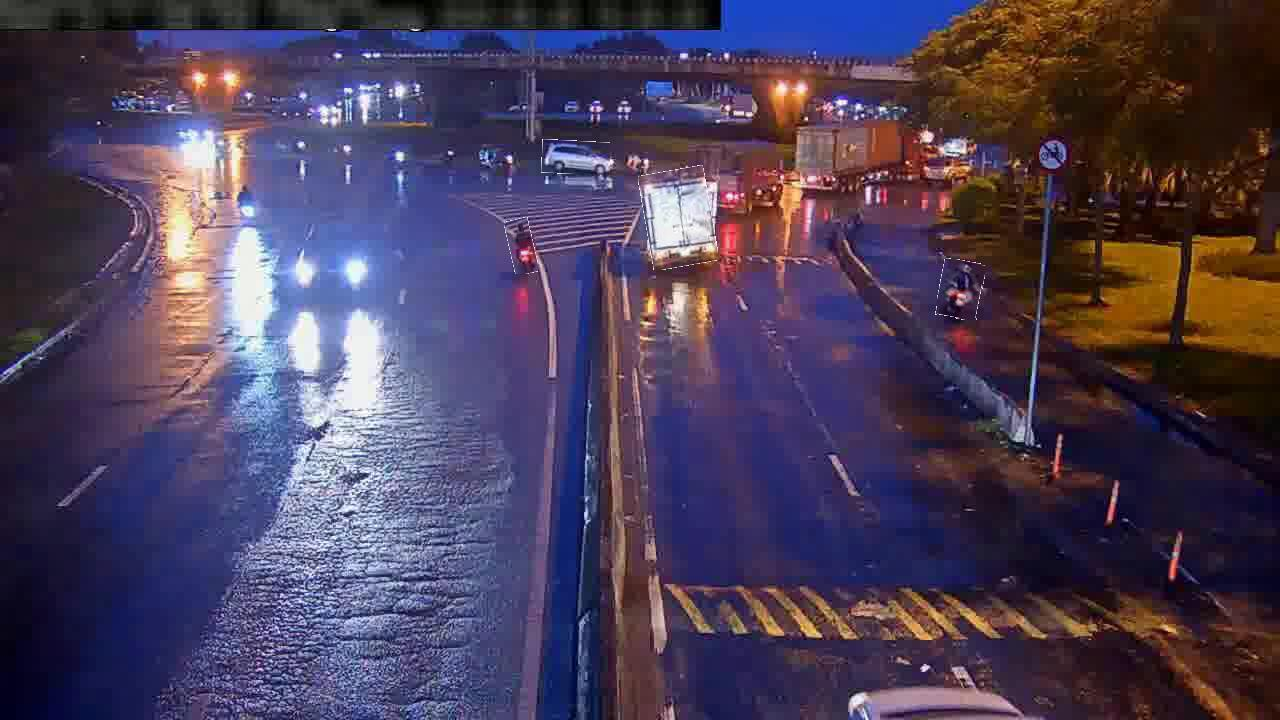8: (642, 168, 716, 268)
container: (542, 140, 611, 175)
motorbike: (938, 260, 984, 320), (507, 218, 537, 275)
